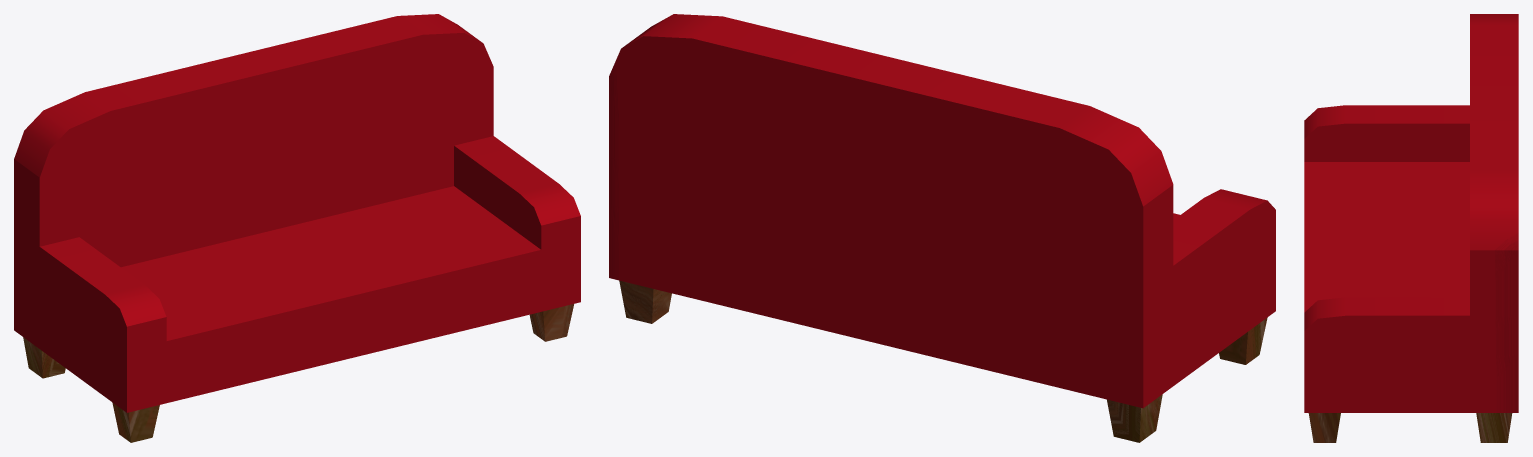
The model's file is sofa.fbx.
3 views of the same model, side by side, from view 1: azimuth 30°, elevation 25°; view 2: azimuth 150°, elevation 25°; view 3: azimuth 270°, elevation 25° (orthographic). The views are drawn at different scales.
Parts seen in each view (by area): view 1: pCube1; view 2: pCube1; view 3: pCube1.
Part boxes in pixels (box(x1,y1,x2,y2)): pCube1: box(14, 14, 580, 442); pCube1: box(609, 14, 1275, 442); pCube1: box(1304, 14, 1518, 442).
Bounding box in the file's own units: 8.39 × 4.54 × 3.61.
1 material, 1 textured.
